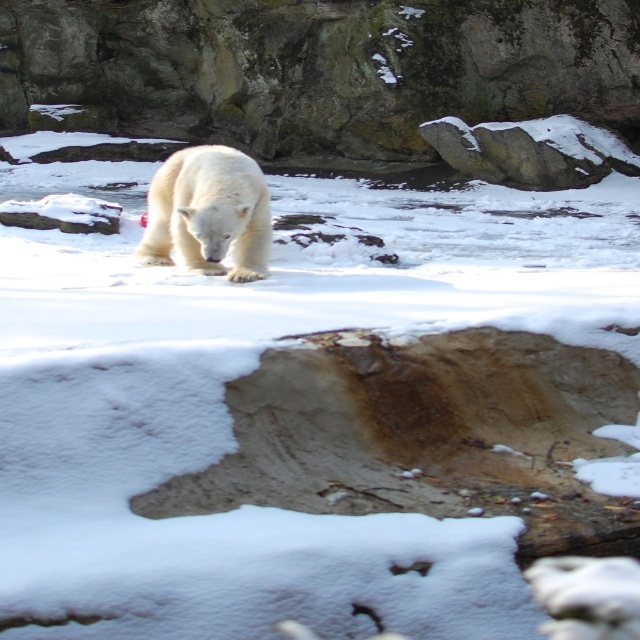Polar bear: (135, 142, 270, 279)
